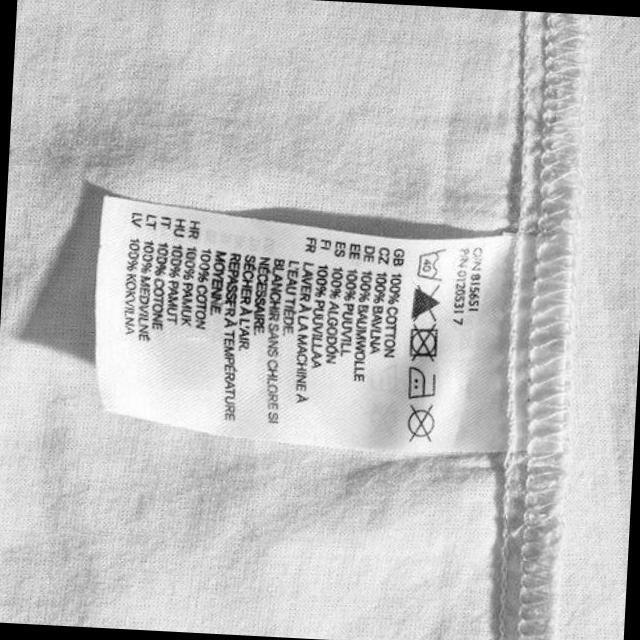40C: (414, 244, 448, 284)
DN_bleach: (408, 282, 442, 326)
DN_dry_clean: (403, 402, 438, 445)
DN_tumble_dry: (404, 322, 442, 366)
iron_medium: (405, 364, 439, 404)
